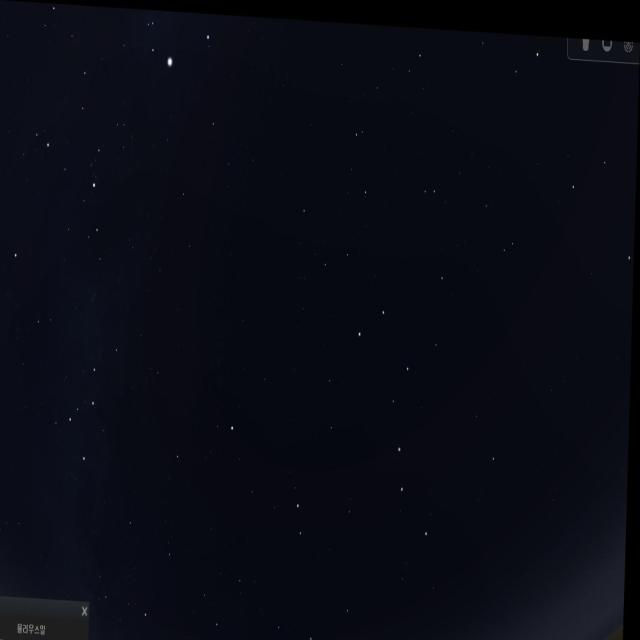cassiopeia: (68, 337, 128, 452)
ursa_major: (349, 293, 444, 544)
